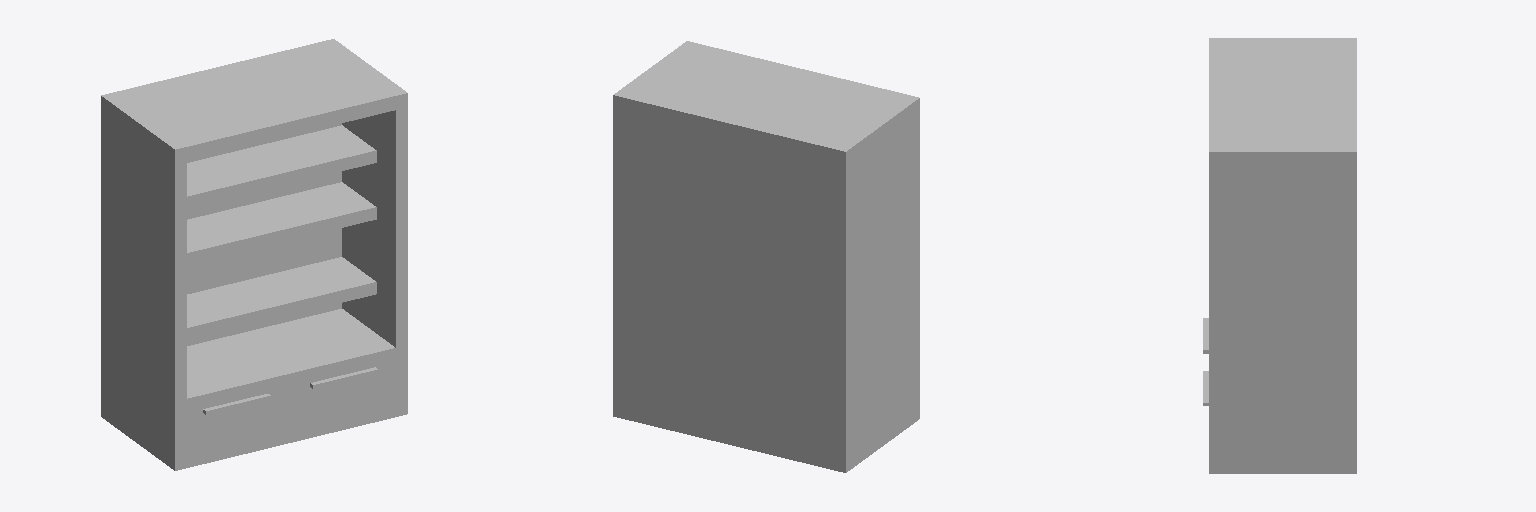
Rendered from bookshelves.obj.
The picture shows the model from 3 angles: view 1: azimuth 30°, elevation 25°; view 2: azimuth 150°, elevation 25°; view 3: azimuth 270°, elevation 25°; orthographic projection.
Parts seen in each view (by area): view 1: closet closet, closet step_2 step, closet step step_1, closet step step_3; view 2: closet closet; view 3: closet closet.
Boxes of the visible parts, <box> form: closet closet: <box>101,39,407,470</box>; closet step_2 step: <box>187,182,376,265</box>; closet step step_1: <box>187,125,376,208</box>; closet step step_3: <box>187,257,376,339</box>; closet closet: <box>613,41,919,472</box>; closet closet: <box>1209,38,1356,473</box>.
Size of the model in its own units: 3.57 by 4.71 by 2.05.